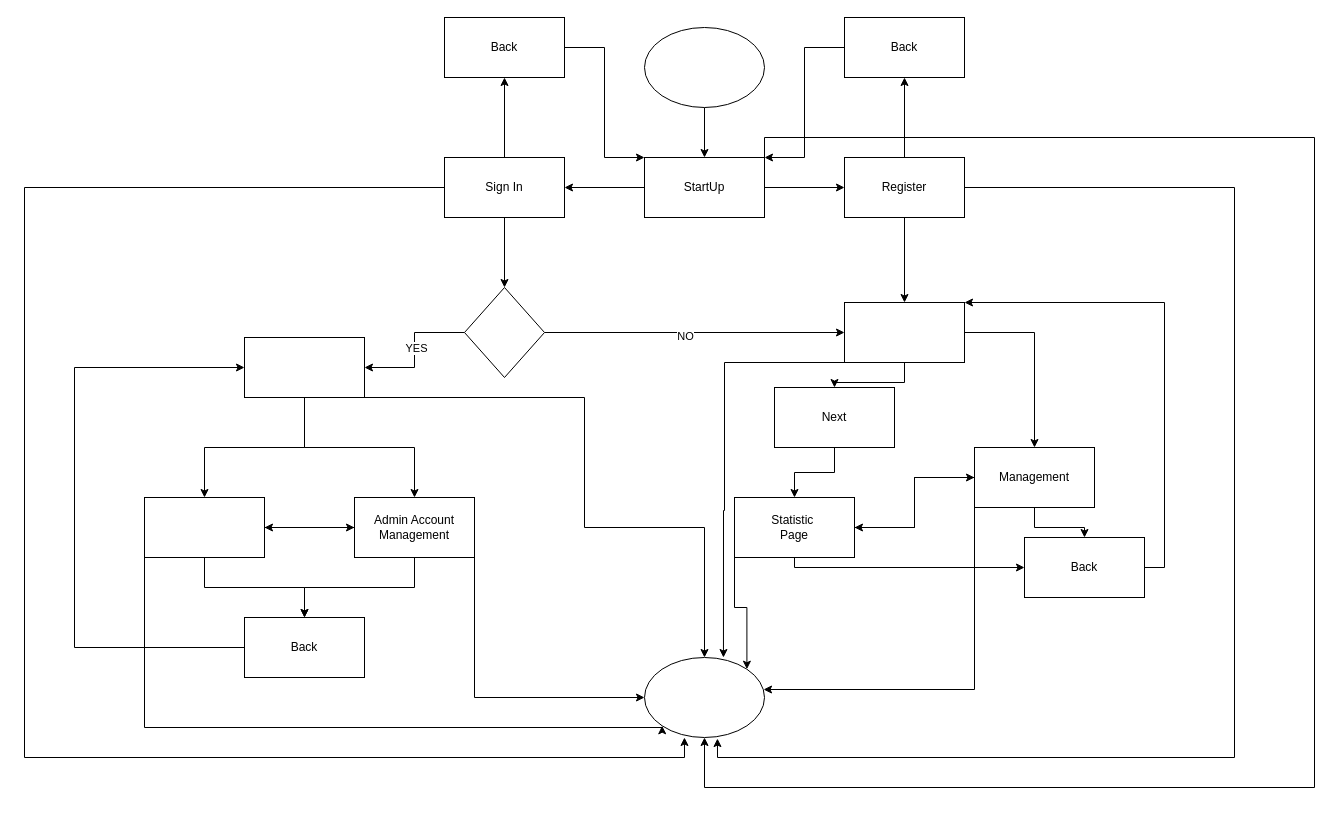
Some shapes in this 1340 by 813 pixel diagram are drawn without their labels. The box of each missing label's shape, as (x1, y1, x2, y2) in pixels:
Admin Page: (244, 336, 364, 398)
Are you an Admin?: (464, 286, 544, 378)
End: (644, 656, 764, 738)
Start: (644, 26, 764, 108)
System Management: (144, 496, 264, 558)
Workout Page: (844, 302, 964, 362)
